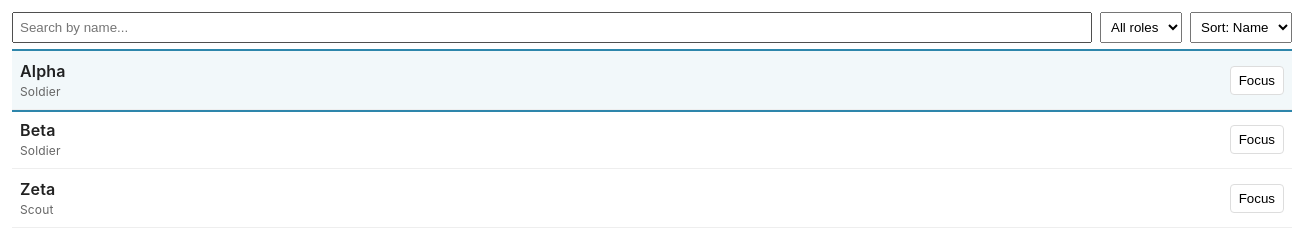
Test: PersonnelList › filters by type and updates list
The image size is (1304, 245).
Select "Soldier" in the dropdown named "filter-type" at (1141, 28), box [1100, 12, 1182, 43]
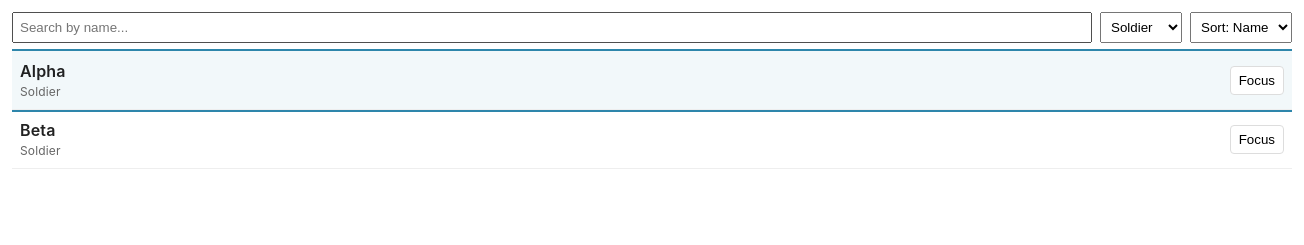
Expected: the list item "Alpha Soldier Focus" is shown, [12, 51, 1292, 110]
Expected: the number of list items is 2, [12, 51, 1292, 110]; [12, 110, 1292, 169]
